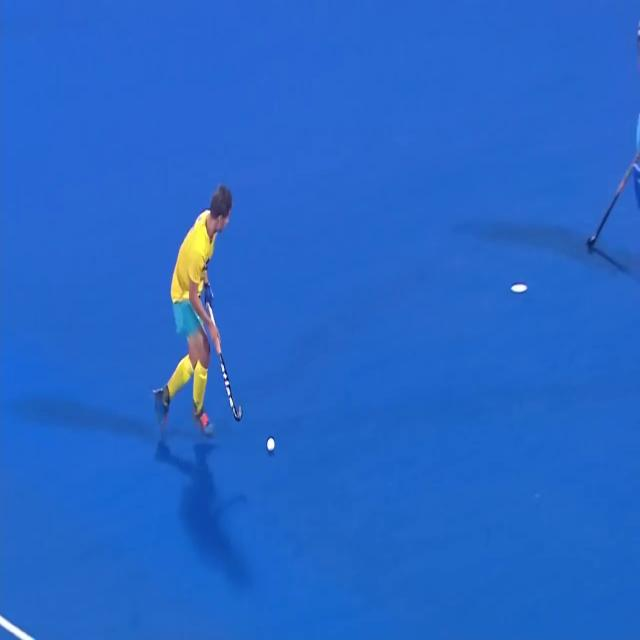ball: (259, 430, 287, 466)
